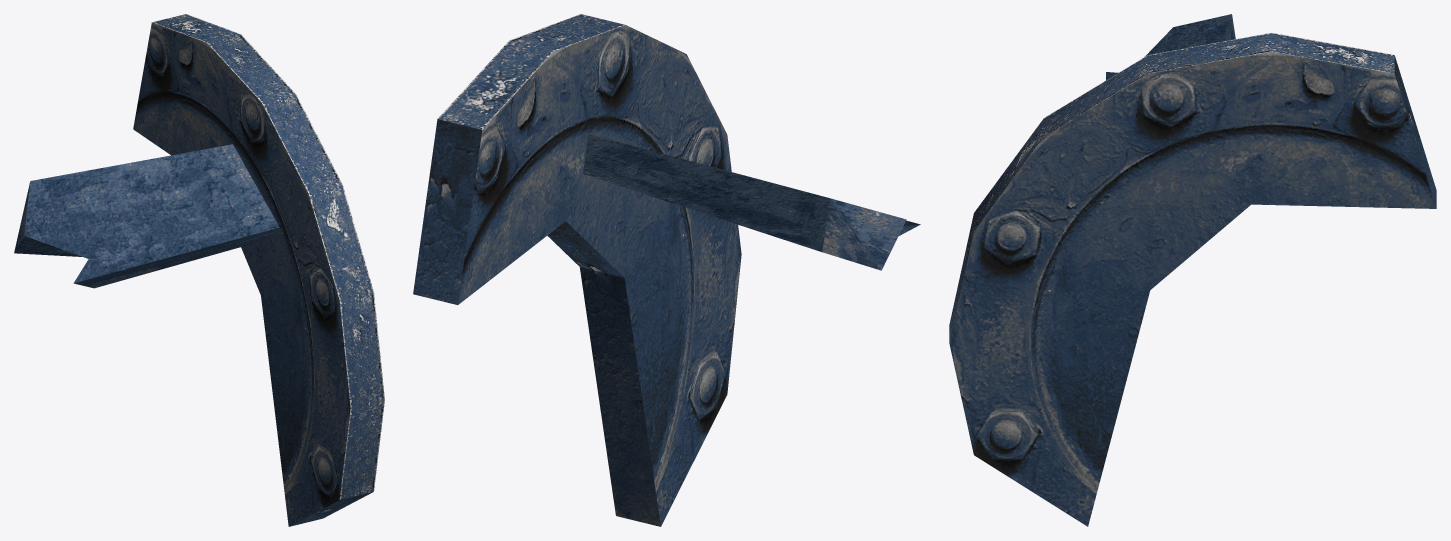
File: valve_broken02_blue.DAE
3 views of the same model, side by side, from view 1: azimuth 30°, elevation 25°; view 2: azimuth 150°, elevation 25°; view 3: azimuth 270°, elevation 25° (orthographic). The views are drawn at different scales.
Visible parts, largest first — view 1: Object524, Object525; view 2: Object524, Object525; view 3: Object524, Object525.
Part boxes in pixels (x1=…): Object524: x1=133, y1=14, x2=384, y2=526; Object525: x1=14, y1=144, x2=279, y2=288; Object524: x1=413, y1=14, x2=741, y2=526; Object525: x1=583, y1=134, x2=920, y2=270; Object524: x1=949, y1=33, x2=1436, y2=526; Object525: x1=1106, y1=14, x2=1235, y2=80.
Bounding box in the file's own units: 0.3441 × 0.4966 × 0.5346.
